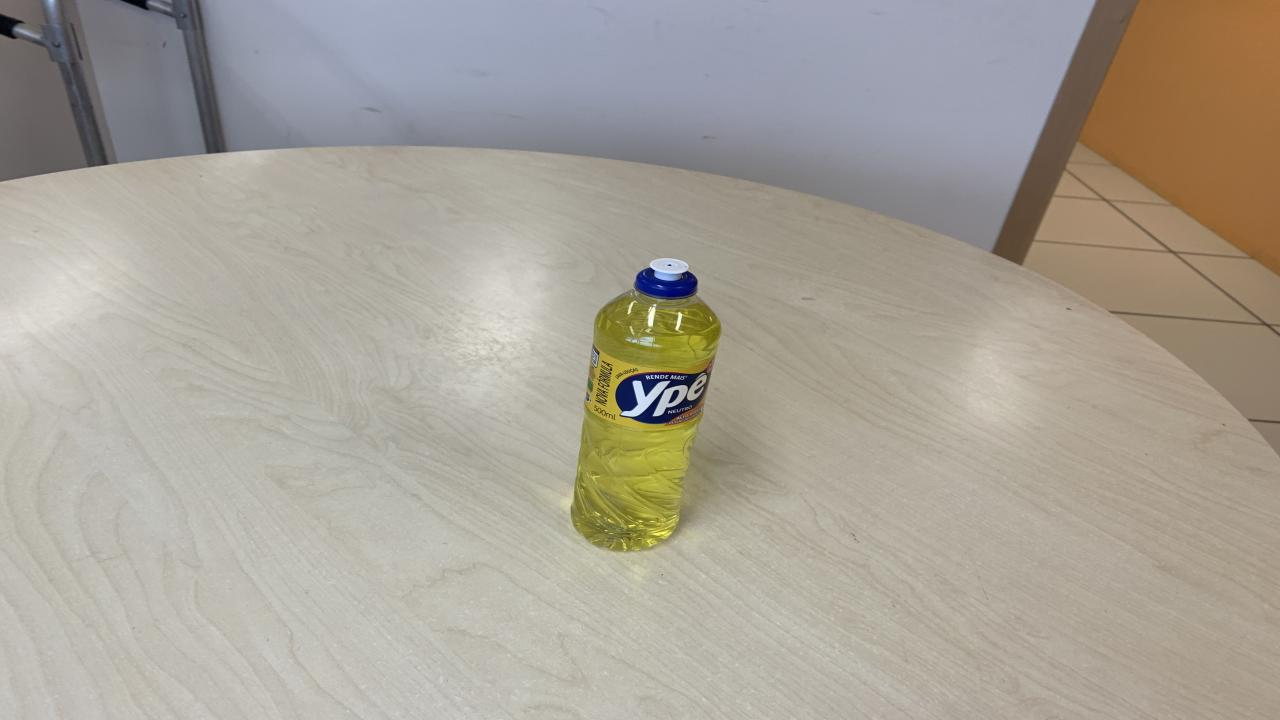Detergent-Cleanup_Items: (569, 259, 723, 555)
